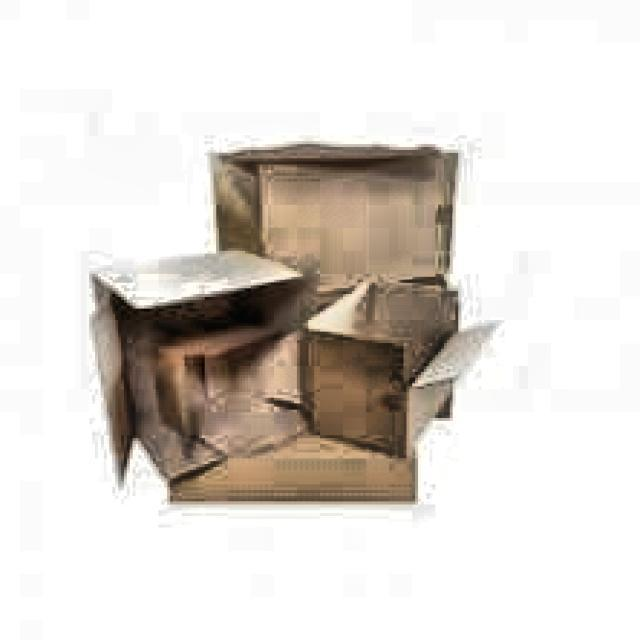cardboard: (86, 138, 499, 502)
